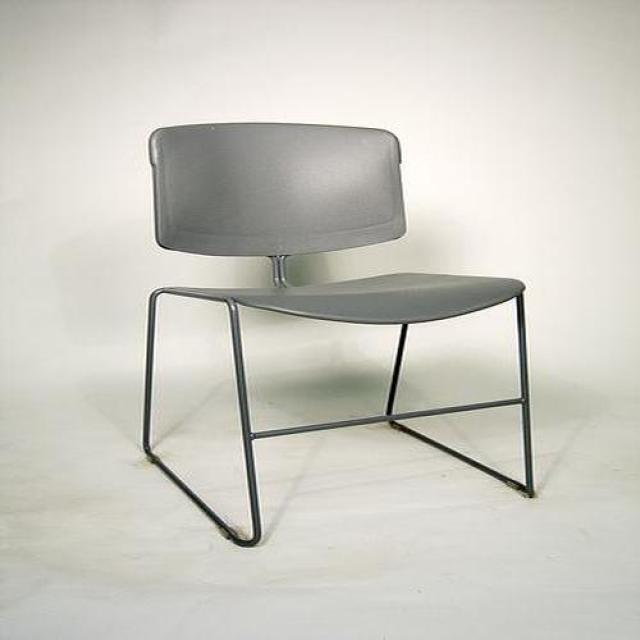chair: (142, 124, 534, 549)
